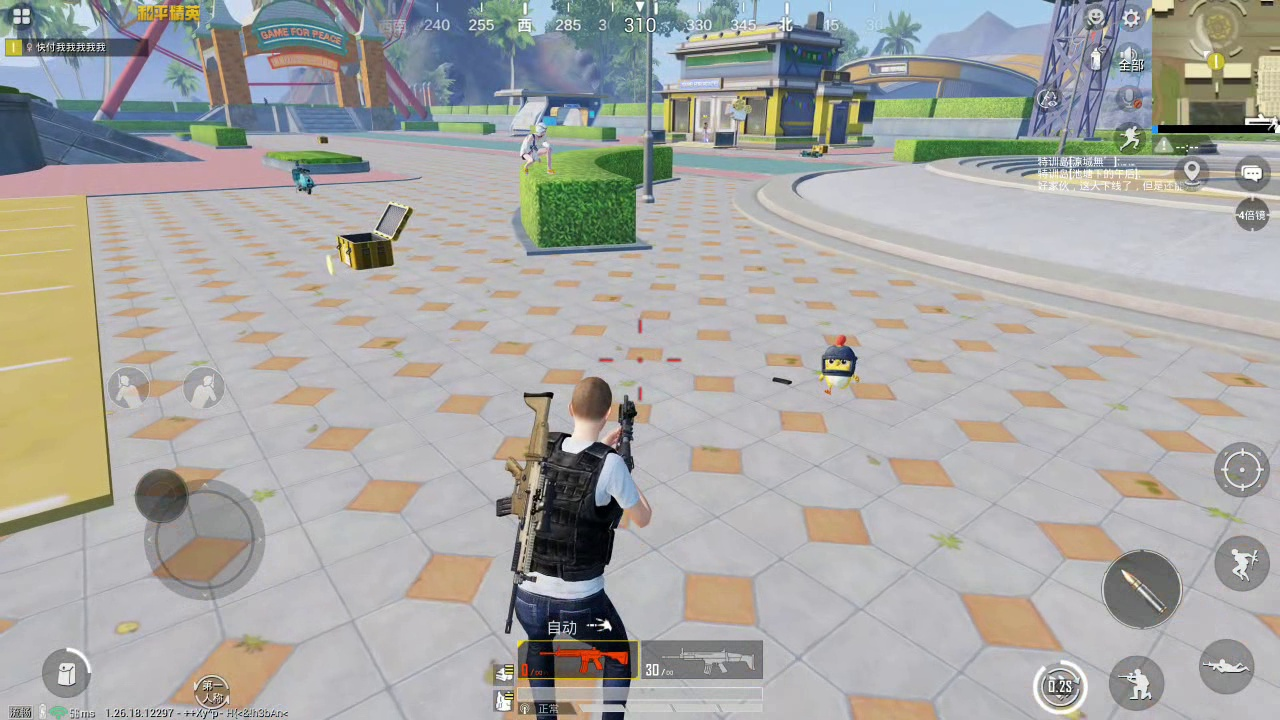enemy: (519, 121, 555, 176)
